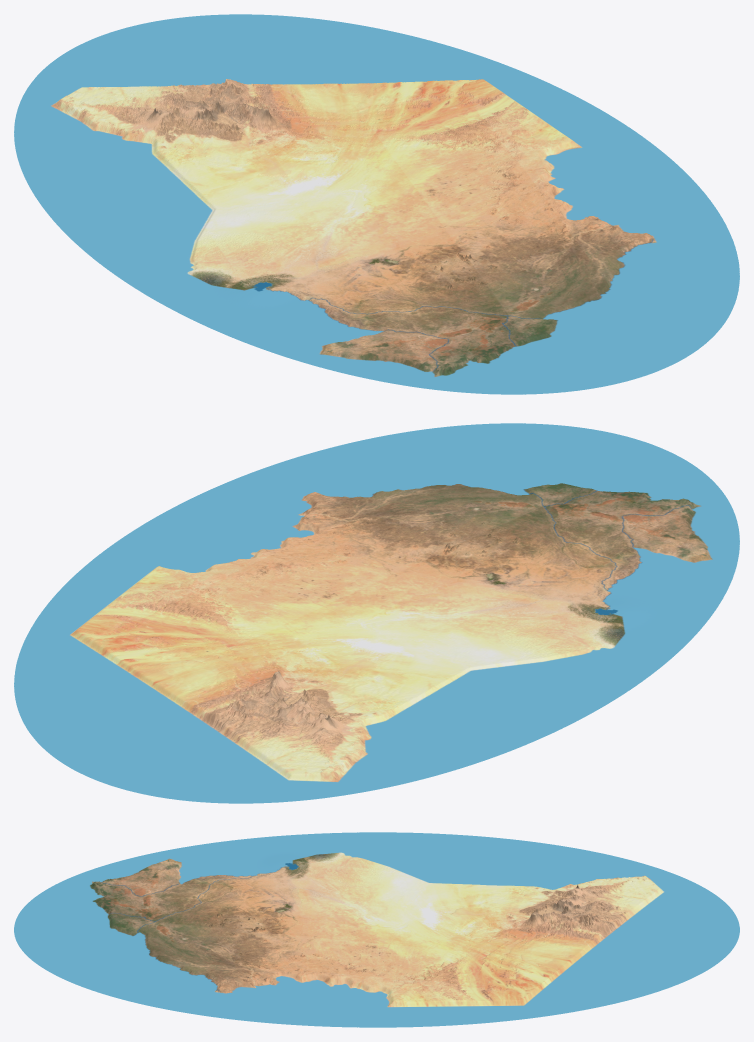
The model's file is TCD-previa-terrain.glb.
The picture shows the model from 3 angles, top to bottom: view 1: azimuth 30°, elevation 25°; view 2: azimuth 150°, elevation 25°; view 3: azimuth 270°, elevation 25°; orthographic projection. The views are drawn at different scales.
Parts seen in each view (by area): view 1: Chade; view 2: Chade; view 3: Chade.
Boxes of the visible parts, x1,y1,x2,y2 form: Chade: (14, 14, 739, 394); Chade: (14, 423, 739, 803); Chade: (14, 832, 739, 1027).
Size of the model in its own units: 1.41 by 0.051 by 2.22.
Materials: 1 (1 with a texture image).
